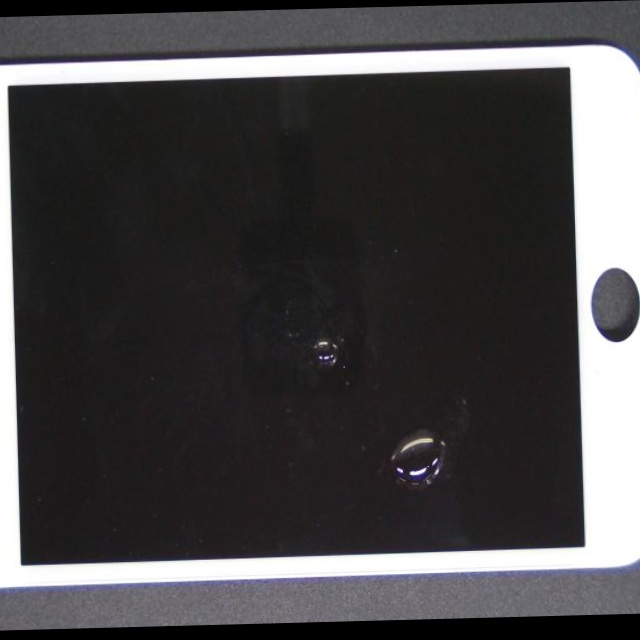oil: (199, 198, 640, 625), (151, 165, 549, 506)
